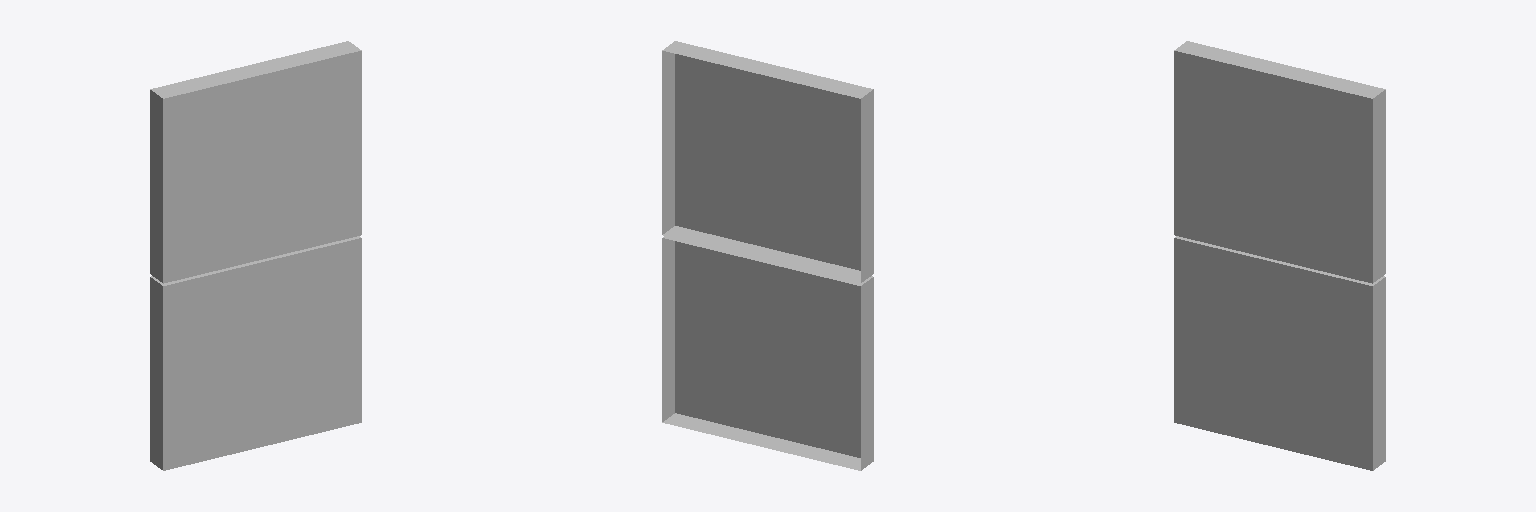
The model's file is cover_square_gb.obj.
The picture shows the model from 3 angles: view 1: azimuth 30°, elevation 25°; view 2: azimuth 150°, elevation 25°; view 3: azimuth 330°, elevation 25°; orthographic projection.
Visible parts, largest first — view 1: cover_square; view 2: cover_square; view 3: cover_square.
Boxes of the visible parts, x1,y1,x2,y2 form: cover_square: [150, 41, 361, 470]; cover_square: [662, 41, 873, 470]; cover_square: [1174, 41, 1385, 470].
Size of the model in its own units: 1.74 by 3.12 by 0.2001.